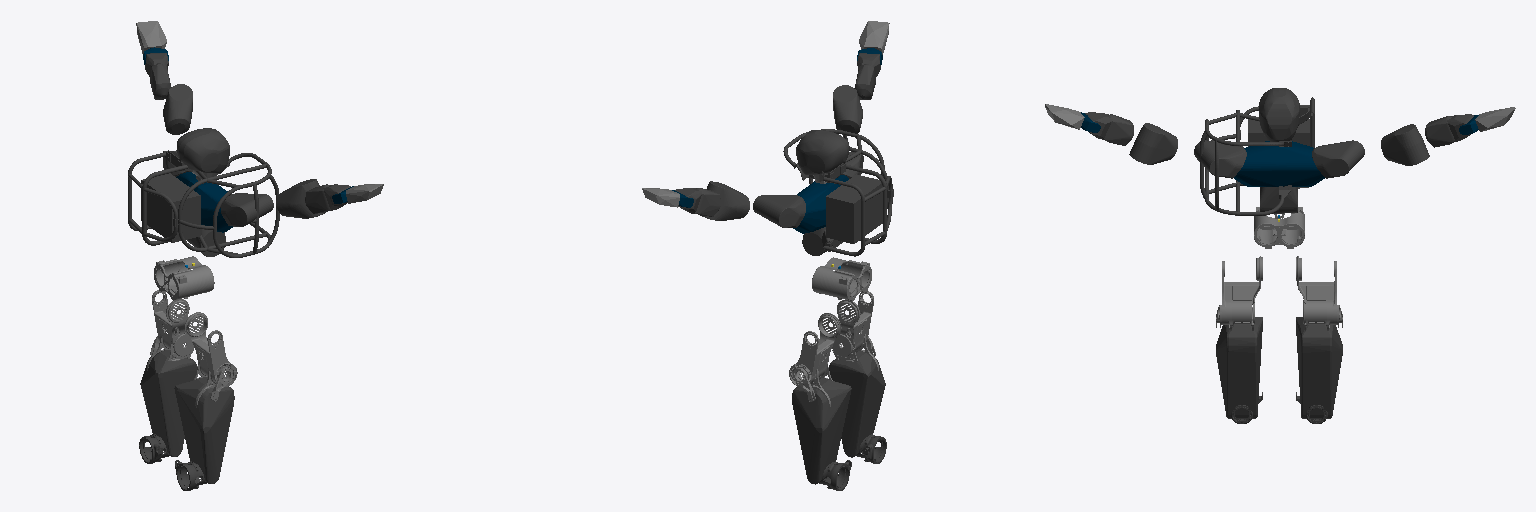
--- Facts derived from the render (not from the file) ---
Views: 3 orthographic renders of the robot side by side, from view 1: azimuth 30°, elevation 25°; view 2: azimuth 150°, elevation 25°; view 3: azimuth 270°, elevation 25°.
Robot: bigman — 85 links, 84 joints (31 revolute, 53 fixed); root link base_link; default pose: all joints at 0 but 2 set to mid-range because 0 is outside their limits (RShLat = -1.99, LShLat = 1.97).
Links seen in each view (by area): view 1: TorsoProtections, RLowLeg, LLowLeg, backpack, RThighLowLeg, LThighLowLeg, Waist, multisense/head, RShp, LShy, DWYTorso, RShy (+5 smaller); view 2: LLowLeg, RLowLeg, backpack, TorsoProtections, LThighLowLeg, RThighLowLeg, Waist, multisense/head, LShp, DWYTorso, RShy, LShy (+5 smaller); view 3: LLowLeg, RLowLeg, DWYTorso, TorsoProtections, multisense/head, LThighLowLeg, RThighLowLeg, Waist, LShy, LShp, RShy, RShp (+6 smaller).
Link boxes in pixels (x1,y1,x2,y2): TorsoProtections: [128, 150, 279, 257]; RLowLeg: [174, 377, 234, 483]; LLowLeg: [140, 350, 196, 456]; backpack: [141, 173, 200, 242]; RThighLowLeg: [185, 312, 237, 407]; LThighLowLeg: [147, 290, 193, 370]; Waist: [154, 256, 214, 300]; multisense/head: [177, 128, 229, 173]; RShp: [220, 193, 273, 226]; LShy: [163, 84, 192, 134]; DWYTorso: [176, 172, 232, 232]; RShy: [276, 179, 324, 218]; LLowLeg: [792, 378, 851, 484]; RLowLeg: [829, 351, 885, 457]; backpack: [826, 174, 882, 243]; TorsoProtections: [783, 129, 893, 256]; LThighLowLeg: [789, 313, 841, 408]; RThighLowLeg: [832, 291, 878, 370]; Waist: [812, 257, 871, 301]; multisense/head: [796, 130, 849, 174]; LShp: [753, 195, 805, 227]; DWYTorso: [793, 175, 848, 233]; RShy: [833, 85, 862, 133]; LShy: [702, 181, 749, 220]; LLowLeg: [1296, 317, 1342, 418]; RLowLeg: [1216, 317, 1262, 418]; DWYTorso: [1234, 141, 1324, 186]; TorsoProtections: [1200, 97, 1314, 215]; multisense/head: [1259, 88, 1299, 142]; LThighLowLeg: [1296, 256, 1342, 330]; RThighLowLeg: [1216, 256, 1262, 330]; Waist: [1254, 207, 1304, 248]; LShy: [1381, 124, 1429, 165]; LShp: [1312, 140, 1364, 178]; RShy: [1129, 123, 1177, 164]; RShp: [1194, 140, 1246, 178].
Size in the robot's own frame: 0.7354 by 2.28 by 1.88 metres.
25 mesh visuals loaded from 23 distinct referenced files (16 binary STL); not drawn: 3 (reference not matched to a file when rendering), 9 (file found but could not be loaded).

URDF robot description (bigman):
<?xml version="1.0" ?>
<!-- =================================================================================== -->
<!-- |    This document was autogenerated by xacro from bigman_robot.urdf.xacro        | -->
<!-- |    EDITING THIS FILE BY HAND IS NOT RECOMMENDED                                 | -->
<!-- =================================================================================== -->
<!--robot xmlns:xacro="http://ros.org/wiki/xacro" name="bigman"-->
<robot name="bigman" xmlns:xacro="http://ros.org/wiki/xacro">
  <!--
  ROS urdf definition of the BIGMAN humanoid robot by Istituto Italiano di Tecnologia
  
  Author: Enrico Mingo
  
  This file groups files to use BIGMAN in GAZEBO
  
  -->
  <!-- Uncomment this to have the robot rigidly connected to the world -->
  <!--  <link name="world"/>
  
   <joint name="fixed" type="fixed">
    <parent link="world"/>
    <child link="base_link"/>
  </joint>
  
  <origin xyz="0.0 0.0 1.5" rpy="0 0 0" /> -->
  <!-- ROBOT -->
  <!-- 
  ROS urdf definition of the BIGMAN humanoid robot by Istituto Italiano di Tecnologia
  
  DO NOT INCLUDE THIS FILE DIRECTLY! USE bigman_robot.urdf.xacro INSTEAD!

  Author: Enrico Mingo & Alessio Rocchi

  Inertial matrix has to be in CoM frame (URDF specs)

  Velocity and effort limits are fake!
-->
  <material name="grey">
    <color rgba="0.5 0.5 0.5 1"/>
  </material>
  <material name="dark_grey">
    <color rgba="0.3 0.3 0.3 1"/>
  </material>
  <material name="blue">
    <color rgba="0.0 0.2 0.3 1"/>
  </material>
  <!-- 
  ROS urdf definition of the BIGMAN humanoid robot by Istituto Italiano di Tecnologia
  
  DO NOT INCLUDE THIS FILE DIRECTLY! USE bigman_robot.urdf.xacro INSTEAD!

  Author: Enrico Mingo & Alessio Rocchi

  Inertial matrix has to be in CoM frame (URDF specs)

  Velocity and effort limits are fake!
-->
  <!--
The coordinate frame called base_link is rigidly attached to the robot root body. It is recommended to choose the robot waist as its root body. The base_link can be attached to the root in any arbitrary position or orientation; for every hardware platform there will be a different place on the base that provides an obvious point of reference. Note that REP 103 [1] specifies a preferred orientation for frames. -->
  <link name="base_link"/>
  <link name="Waist">
    <inertial>
      <origin rpy="0.0 0.0 0.0" xyz="-0.022813402 -0.00073935443 0.030422909"/>
      <mass value="1.1046081e+01"/>
      <inertia ixx="0.096207978" ixy="0.00014081043" ixz="0.0031258127" iyy="0.098511158" iyz="0.00013938149" izz="0.086541531"/>
    </inertial>
    <visual>
      <origin rpy="0 0 0" xyz="0 0 0"/>
      <geometry name="Waist_visual">
        <mesh filename="package://bigman_urdf/meshes/Waist.STL" scale="0.001 0.001 0.001"/>
      </geometry>
      <material name="grey"/>
    </visual>
    <collision>
      <origin rpy="0 0 0" xyz="0 0 0"/>
      <geometry name="Waist_collision">
        <mesh filename="package://bigman_urdf/meshes/simple/Waist.STL" scale="0.001 0.001 0.001"/>
      </geometry>
    </collision>
  </link>
  <joint name="base_joint" type="fixed">
    <parent link="base_link"/>
    <child link="Waist"/>
    <origin rpy="0 0 0" xyz="0 0 0"/>
  </joint>
  <!-- Scale factor for meshes -->
  <!-- LINKS -->
  <!-- This links are defined in order to be compliant with http://www.ros.org/reps/rep-0120.html#coordinate-frames
and to define the end effectors of the robot-->
  <!-- The coordinate frame called torso is attached to the lowest body of the model which is a parent of l_gripper, r_gripper and gaze. -->
  <link name="torso"/>
  <link name="DWL">
    <inertial>
      <origin rpy="0 0 0" xyz="-0.04610869 0.02232230 -0.02249514"/>
      <mass value="1.44965471"/>
      <inertia ixx="0.01096760" ixy="0.00111556" ixz="0.00030030" iyy="0.00409572" iyz="0.00054456" izz="0.01143795"/>
    </inertial>
    <visual>
      <origin rpy="0 0 0" xyz="0.0 0.0 0.0"/>
      <geometry name="DWL_visual">
        <mesh filename="package://bigman_urdf/meshes/TorsoRoll.STL" scale="0.001 0.001 0.001"/>
      </geometry>
      <material name="dark_grey"/>
    </visual>
    <collision>
      <origin rpy="0 0 0" xyz="0.0 0.0 0.0"/>
      <geometry name="DWL_collision">
        <mesh filename="package://bigman_urdf/meshes/simple/TorsoRoll.STL" scale="0.001 0.001 0.001"/>
      </geometry>
    </collision>
  </link>
  <link name="DWS">
    <inertial>
      <origin rpy="0 0 0" xyz="0.00010203 0.00928164 0.08113610"/>
      <mass value="5.28825567"/>
      <inertia ixx="0.01628069" ixy="-0.00000323" ixz="0.00001424" iyy="0.01424286" iyz="0.00075458" izz="0.00994169"/>
    </inertial>
    <visual>
      <origin rpy="0 0 0" xyz="0.0 0.0 0.0"/>
      <geometry name="DWS_visual">
        <mesh filename="package://bigman_urdf/meshes/TorsoYawPitch.STL" scale="0.001 0.001 0.001"/>
      </geometry>
      <material name="dark_grey"/>
    </visual>
    <collision>
      <origin rpy="0 0 0" xyz="0.0 0.0 0.0"/>
      <geometry name="DWS_collision">
        <mesh filename="package://bigman_urdf/meshes/simple/TorsoYawPitch.STL" scale="0.001 0.001 0.001"/>
      </geometry>
    </collision>
  </link>
  <link name="DWYTorso">
    <inertial>
      <origin rpy="0 0 0" xyz="0.0 0.00 0.3"/>
      <mass value="26"/>
      <inertia ixx="0.18629757" ixy="0.00008160" ixz="0.00030250" iyy="0.02013829" iyz="-0.00001790" izz="0.18850541"/>
    </inertial>
    <visual>
      <origin rpy="0 0 0" xyz="0.0 0.0 0.0"/>
      <geometry name="DWYTorso_visual">
        <mesh filename="package://bigman_urdf/meshes/NewChest.STL" scale="0.001 0.001 0.001"/>
      </geometry>
      <material name="blue"/>
    </visual>
    <collision>
      <origin rpy="0 0 0" xyz="0.0 0.0 0.0"/>
      <geometry name="DWYTorso_collision">
        <mesh filename="package://bigman_urdf/meshes/simple/NewChest.STL" scale="0.001 0.001 0.001"/>
      </geometry>
    </collision>
  </link>
  <link name="TorsoProtections">
    <inertial>
      <origin rpy="0 0 0" xyz="-0.082963193 7.0747291e-07 0.075409106"/>
      <mass value="4.7"/>
      <inertia ixx="0.14773769" ixy="0.0" ixz="-0.029780072" iyy="0.16085511" iyz="0.0" izz="0.15409381"/>
    </inertial>
    <visual>
      <origin rpy="0 0 0" xyz="0.0 0.0 0.0"/>
      <geometry name="TorsoProtections_visual">
        <mesh filename="package://bigman_urdf/meshes/ProtectionSystem.STL" scale="0.001 0.001 0.001"/>
      </geometry>
      <material name="dark_grey"/>
    </visual>
    <collision>
      <origin rpy="0 0 0" xyz="0.0 0.0 0.0"/>
      <geometry name="TorsoProtections_collision">
        <mesh filename="package://bigman_urdf/meshes/simple/ProtectionSystem.STL" scale="0.001 0.001 0.001"/>
      </geometry>
    </collision>
  </link>
  <link name="backpack">
    <inertial>
      <origin rpy="0 0 0" xyz="0 0 -0.065"/>
      <mass value="10.0"/>
      <inertia ixx="0.0890833333333" ixy="0.0" ixz="0.0" iyy="0.0354166666667" iyz="0.0" izz="0.0963333333333"/>
    </inertial>
    <visual>
      <origin rpy="0 0 0" xyz="0.0 0.0 0.0"/>
      <geometry name="backpack_visual">
        <box size="0.16 0.3 0.22"/>
      </geometry>
      <material name="dark_grey"/>
    </visual>
    <collision>
      <origin rpy="0 0 0" xyz="0.0 0.0 0.0"/>
      <geometry name="backpack_collision">
        <box size="0.16 0.3 0.22"/>
      </geometry>
    </collision>
  </link>
  <joint name="backpack_joint" type="fixed">
    <parent link="DWYTorso"/>
    <child link="backpack"/>
    <origin rpy="0 0 0" xyz="-0.185 0 -0.025"/>
  </joint>
  <joint name="torso_protection_joint" type="fixed">
    <parent link="DWYTorso"/>
    <child link="TorsoProtections"/>
    <origin rpy="0 0 0" xyz="0.0 0 0.0"/>
  </joint>
  <joint name="torso_joint" type="fixed">
    <parent link="DWYTorso"/>
    <child link="torso"/>
    <origin rpy="0 0 0" xyz="0.0 0 0.0"/>
  </joint>
  <joint name="WaistLat" type="revolute">
    <parent link="Waist"/>
    <child link="DWL"/>
    <origin rpy="0 0 0" xyz="0.1115 0 0.195982"/>
    <axis xyz="0.89879991307 0 0.43835911792"/>
    <limit effort="120" lower="-0.610865238198" upper="0.610865238198" velocity="6.283"/>
    <dynamics damping="3.0" friction="0"/>
  </joint>
  <joint name="WaistSag" type="revolute">
    <parent link="DWL"/>
    <child link="DWS"/>
    <origin rpy="0 0 0" xyz="0 0 0"/>
    <axis xyz="0 1 0"/>
    <limit effort="220" lower="-0.349065850399" upper="1.3962634016" velocity="6.283"/>
    <dynamics damping="3.0" friction="0"/>
  </joint>
  <joint name="WaistYaw" type="revolute">
    <parent link="DWS"/>
    <child link="DWYTorso"/>
    <origin rpy="0 0 0" xyz="0 0 0.22275"/>
    <axis xyz="0 0 1"/>
    <limit effort="120" lower="-2.84488668075" upper="2.84488668075" velocity="6.283"/>
    <dynamics damping="3.0" friction="0"/>
  </joint>
  <!-- LINKS -->
  <link name="NeckYaw">
    <inertial>
      <origin rpy="0 0 0" xyz="0.0 0.0 0.1155"/>
      <mass value="0.35"/>
      <inertia ixx="0.00032840119" ixy="0.0" ixz="0.0" iyy="7.0371675e-05" iyz="0.0" izz="0.00032840111"/>
    </inertial>
    <visual>
      <origin rpy="0 0 0" xyz="0.0 0.0 0.0"/>
      <geometry name="NeckYaw_visual">
        <mesh filename="package://bigman_urdf/meshes/NeckYaw.STL" scale="0.001 0.001 0.001"/>
      </geometry>
      <material name="grey"/>
    </visual>
    <collision>
      <origin rpy="0 0 0" xyz="0.0 0.0 0.0"/>
      <geometry name="NeckYaw_collision">
        <mesh filename="package://bigman_urdf/meshes/simple/NeckYaw.STL" scale="0.001 0.001 0.001"/>
      </geometry>
    </collision>
  </link>
  <link name="NeckPitch">
    <inertial>
      <origin rpy="0 0 0" xyz="-0.102 0.0 0.26575"/>
      <mass value="0.623"/>
      <inertia ixx="0.0010388333" ixy="0.0" ixz="0.0" iyy="0.00054689381" iyz="0.0" izz="0.00054689381"/>
    </inertial>
    <visual>
      <origin rpy="0 0 0" xyz="0.0 0.0 0.0"/>
      <geometry name="NeckPitch_visual">
        <mesh filename="package://bigman_urdf/meshes/NeckPitch.STL" scale="0.001 0.001 0.001"/>
      </geometry>
      <material name="grey"/>
    </visual>
    <collision>
      <origin rpy="0 0 0" xyz="0.0 0.0 0.0"/>
      <geometry name="NeckPitch_collision">
        <mesh filename="package://bigman_urdf/meshes/simple/NeckPitch.STL" scale="0.001 0.001 0.001"/>
      </geometry>
    </collision>
  </link>
  <!-- JOINTS -->
  <joint name="NeckYawj" type="revolute">
    <parent link="DWYTorso"/>
    <child link="NeckYaw"/>
    <origin rpy="0 0 0" xyz="0 0 0"/>
    <axis xyz="0 0 1"/>
    <!--     <limit velocity="6.283" effort="120" lower="${(-175.0)*toRad}" upper="${(175.0)*toRad}" /> -->
    <limit effort="120" lower="-0.610865238198" upper="0.610865238198" velocity="6.283"/>
    <dynamics damping="3.0" friction="0"/>
  </joint>
  <joint name="NeckPitchj" type="revolute">
    <parent link="NeckYaw"/>
    <child link="NeckPitch"/>
    <origin rpy="0 0 0" xyz="0 0 0.117"/>
    <axis xyz="0 1 0"/>
    <!--limit velocity="6.283" effort="120" lower="${(-30.0)*toRad}" upper="${(70.0)*toRad}" /-->
    <limit effort="120" lower="-0.261799387799" upper="1.0471975512" velocity="6.283"/>
    <dynamics damping="3.0" friction="0"/>
  </joint>
  <!-- ********************LEGS******************** -->
  <!-- This links are defined in order to be compliant with http://www.ros.org/reps/rep-0120.html#coordinate-frames
	and to define the end effectors of the robot -->
  <!--  position and orientation of the leg regardless of the support body geometry -->
  <link name="l_ankle"/>
  <link name="r_ankle"/>
  <!-- position and orientation of the left leg support body. The (X,Y) plane of this frame must be coplanar with the support body contact surface. It is recommended to choose the origin as the projection of the support body origin on the contact surface. The Z coordinate of this frame should be on the ground level when standing. -->
  <link name="l_sole"/>
  <link name="r_sole"/>
  <!--  position and orientation of the leg toe body. The (X,Y) plan of this frame must be coplanar with the toe body contact surface. It is recommended to choose the origin as the projection of the body center on the contact surface. -->
  <link name="l_toe"/>
  <link name="r_toe"/>
  <!-- LINKS -->
  <!-- ********************RIGHT LEG******************** -->
  <link name="RHipMot">
    <inertial>
      <origin rpy="0 0 0" xyz="-0.10348188 -0.10919813 -0.064924056"/>
      <mass value="3.7958197"/>
      <inertia ixx="0.015639017" ixy="0.0018504661" ixz="0.0023907793" iyy="0.023519749" iyz="-0.0023303162" izz="0.020953643"/>
    </inertial>
    <visual>
      <origin rpy="0 0 0" xyz="0 0 0"/>
      <geometry name="RHipMot_visual">
        <mesh filename="package://bigman_urdf/meshes/HipRoll.STL" scale="0.001 0.001 0.001"/>
      </geometry>
      <material name="dark_grey"/>
    </visual>
    <collision>
      <origin rpy="0 0 0" xyz="0 0 0"/>
      <geometry name="RHipMot_collision">
        <mesh filename="package://bigman_urdf/meshes/simple/HipRoll.STL" scale="0.001 0.001 0.001"/>
      </geometry>
    </collision>
  </link>
  <link name="RThighUpLeg">
    <inertial>
      <origin rpy="0 0 0" xyz="-0.0052929709 -0.022561833 0.0056701669"/>
      <mass value="3.2402068"/>
      <inertia ixx="0.010102097" ixy="0.00010858487" ixz="0.00025291395" iyy="0.0067147" iyz="8.3447072e-05" izz="0.01048513"/>
    </inertial>
    <visual>
      <origin rpy="0 0 0" xyz="0 0 0"/>
      <geometry name="RThighUpLeg_visual">
        <mesh filename="package://bigman_urdf/meshes/HipYaw.STL" scale="0.001 0.001 0.001"/>
      </geometry>
      <material name="dark_grey"/>
    </visual>
    <collision>
      <origin rpy="0 0 0" xyz="0 0 0"/>
      <geometry name="RThighUpLeg_collision">
        <mesh filename="package://bigman_urdf/meshes/simple/HipYaw.STL" scale="0.001 0.001 0.001"/>
      </geometry>
    </collision>
  </link>
  <link name="RThighLowLeg">
    <inertial>
      <origin rpy="0 0 0" xyz="0.037746286 -0.028539939 -0.19310133"/>
      <mass value="5.0950736"/>
      <inertia ixx="0.051607858" ixy="0.0022253472" ixz="0.002452979" iyy="0.044349153" iyz="-0.0041006942" izz="0.023374453"/>
    </inertial>
    <visual>
      <origin rpy="0 0 0" xyz="0 0 0"/>
      <geometry name="RThighLowLeg_visual">
        <mesh filename="package://bigman_urdf/meshes/HipPitch.STL" scale="0.001 0.001 0.001"/>
      </geometry>
      <material name="grey"/>
    </visual>
    <collision>
      <origin rpy="0 0 0" xyz="0 0 0"/>
      <geometry name="RThighLowLeg_collision">
        <mesh filename="package://bigman_urdf/meshes/simple/HipPitch.STL" scale="0.001 0.001 0.001"/>
      </geometry>
    </collision>
  </link>
  <link name="RLowLeg">
    <inertial>
      <origin rpy="0 0 0" xyz="-0.0050828668 0.0037732093 -0.072605017"/>
      <mass value="5.6495309"/>
      <inertia ixx="0.10535542" ixy="-0.00058199221" ixz="0.0016743598" iyy="0.097857796" iyz="-0.0033770181" izz="0.020854086"/>
    </inertial>
    <visual>
      <origin rpy="0 0 0" xyz="0 0 0"/>
      <geometry name="RLowLeg_visual">
        <mesh filename="package://bigman_urdf/meshes/KneePitchCalf.STL" scale="0.001 0.001 0.001"/>
      </geometry>
      <material name="dark_grey"/>
    </visual>
    <collision>
      <origin rpy="0 0 0" xyz="0 0 0"/>
      <geometry name="RLowLeg_collision">
        <mesh filename="package://bigman_urdf/meshes/simple/KneePitchCalf.STL" scale="0.001 0.001 0.001"/>
      </geometry>
    </collision>
  </link>
  <link name="RFootmot">
    <inertial>
      <origin rpy="0 0 0" xyz="-0.022024173 0.0025677238 0.00094588455"/>
      <mass value="3.2844159"/>
      <inertia ixx="0.0075550679" ixy="0.00067488292" ixz="5.8332889e-05" iyy="0.011241163" iyz="-0.00014552081" izz="0.013391865"/>
    </inertial>
    <visual>
      <origin rpy="0 0 0" xyz="0 0 0"/>
      <geometry name="RFootmot_visual">
        <mesh filename="package://bigman_urdf/meshes/AnklePitch.STL" scale="0.001 0.001 0.001"/>
      </geometry>
      <material name="dark_grey"/>
    </visual>
    <collision>
      <origin rpy="0 0 0" xyz="0 0 0"/>
      <geometry name="RFootmot_collision">
        <mesh filename="package://bigman_urdf/meshes/simple/AnklePitch.STL" scale="0.001 0.001 0.001"/>
      </geometry>
    </collision>
  </link>
  <link name="RFoot">
    <inertial>
      <origin rpy="0 0 0" xyz="-0.00653584 -0.00479384 -0.10180375"/>
      <mass value="3.42638110"/>
      <inertia ixx="0.01032886" ixy="-0.00016407" ixz="-0.00201294" iyy="0.02854025" iyz="0.00046315" izz="0.02799499"/>
    </inertial>
    <visual>
      <origin rpy="0 0 0" xyz="0 0 0"/>
      <geometry name="RFoot_visual">
        <mesh filename="package://bigman_urdf/meshes/NewFoot.STL" scale="0.001 0.001 0.001"/>
      </geometry>
      <material name="dark_grey"/>
    </visual>
    <collision>
      <origin rpy="0 0 0" xyz="0.005 -0.01 -0.1359"/>
      <geometry>
        <box size="0.32 0.16 0.015"/>
      </geometry>
    </collision>
  </link>
  <!-- ********************LEFT LEG******************** -->
  <link name="LHipMot">
    <inertial>
      <origin rpy="0 0 0" xyz="-0.10348188 0.10919813 -0.064924056"/>
      <mass value="3.7958197"/>
      <inertia ixx="0.015639017" ixy="-0.0018504661" ixz="0.0023907793" iyy="0.023519749" iyz="0.0023303162" izz="0.020953643"/>
    </inertial>
    <visual>
      <origin rpy="0 0 0" xyz="0 0 0"/>
      <geometry name="LHipMot_visual">
        <mesh filename="package://bigman_urdf/meshes/HipRoll.STL" scale="0.001 -0.001 0.001"/>
      </geometry>
      <material name="dark_grey"/>
    </visual>
    <collision>
      <origin rpy="0 0 0" xyz="0 0 0"/>
      <geometry name="LHipMot_collision">
        <mesh filename="package://bigman_urdf/meshes/simple/HipRoll.STL" scale="0.001 -0.001 0.001"/>
      </geometry>
    </collision>
  </link>
  <link name="LThighUpLeg">
    <inertial>
      <origin rpy="0 0 0" xyz="-0.0052929709 0.022561833 0.0056701669"/>
      <mass value="3.2402068"/>
      <inertia ixx="0.010102097" ixy="-0.00010858487" ixz="0.00025291395" iyy="0.0067147" iyz="-8.3447072e-05" izz="0.01048513"/>
    </inertial>
    <visual>
      <origin rpy="0 0 0" xyz="0 0 0"/>
      <geometry name="LThighUpLeg_visual">
        <mesh filename="package://bigman_urdf/meshes/HipYaw.STL" scale="0.001 -0.001 0.001"/>
      </geometry>
      <material name="dark_grey"/>
    </visual>
    <collision>
      <origin rpy="0 0 0" xyz="0 0 0"/>
      <geometry name="LThighUpLeg_collision">
        <mesh filename="package://bigman_urdf/meshes/simple/HipYaw.STL" scale="0.001 -0.001 0.001"/>
      </geometry>
    </collision>
  </link>
  <link name="LThighLowLeg">
    <inertial>
      <origin rpy="0 0 0" xyz="0.037746286 0.028539939 -0.19310133"/>
      <mass value="5.0950736"/>
      <inertia ixx="0.051607858" ixy="-0.0022253472" ixz="0.002452979" iyy="0.044349153" iyz="0.0041006942" izz="0.023374453"/>
    </inertial>
    <visual>
      <origin rpy="0 0 0" xyz="0 0 0"/>
      <geometry name="LThighLowLeg_visual">
        <mesh filename="package://bigman_urdf/meshes/HipPitch.STL" scale="0.001 -0.001 0.001"/>
      </geometry>
      <material name="grey"/>
    </visual>
    <collision>
      <origin rpy="0 0 0" xyz="0 0 0"/>
      <geometry name="LThighLowLeg_collision">
        <mesh filename="package://bigman_urdf/meshes/simple/HipPitch.STL" scale="0.001 -0.001 0.001"/>
      </geometry>
    </collision>
  </link>
  <link name="LLowLeg">
    <inertial>
      <origin rpy="0 0 0" xyz="-0.0050828668 -0.0037732093 -0.072605017"/>
      <mass value="5.6495309"/>
      <inertia ixx="0.10535542" ixy="0.00058199221" ixz="0.0016743598" iyy="0.097857796" iyz="0.0033770181" izz="0.020854086"/>
    </inertial>
    <visual>
      <origin rpy="0 0 0" xyz="0 0 0"/>
      <geometry name="LLowLeg_visual">
        <mesh filename="package://bigman_urdf/meshes/KneePitchCalf.STL" scale="0.001 -0.001 0.001"/>
      </geometry>
      <material name="dark_grey"/>
    </visual>
    <collision>
      <origin rpy="0 0 0" xyz="0 0 0"/>
      <geometry name="LLowLeg_collision">
        <mesh filename="package://bigman_urdf/meshes/simple/KneePitchCalf.STL" scale="0.001 -0.001 0.001"/>
      </geometry>
    </collision>
  </link>
  <link name="LFootmot">
    <inertial>
      <origin rpy="0 0 0" xyz="-0.022024173 -0.0025677238 0.00094588455"/>
      <mass value="3.2844159"/>
      <inertia ixx="0.0075550679" ixy="-0.00067488292" ixz="5.8332889e-05" iyy="0.011241163" iyz="0.00014552081" izz="0.013391865"/>
    </inertial>
    <visual>
      <origin rpy="0 0 0" xyz="0 0 0"/>
      <geometry name="LFootmot_visual">
        <mesh filename="package://bigman_urdf/meshes/AnklePitch.STL" scale="0.001 -0.001 0.001"/>
      </geometry>
      <material name="dark_grey"/>
    </visual>
    <collision>
      <origin rpy="0 0 0" xyz="0 0 0"/>
      <geometry name="LFootmot_collision">
        <mesh filename="package://bigman_urdf/meshes/simple/AnklePitch.STL" scale="0.001 -0.001 0.001"/>
      </geometry>
    </collision>
  </link>
  <link name="LFoot">
    <inertial>
      <origin rpy="0 0 0" xyz="-0.00653584 0.00479384 -0.10180375"/>
      <mass value="3.42638110"/>
      <inertia ixx="0.01032886" ixy="0.00016407" ixz="-0.00201294" iyy="0.02854025" iyz="-0.00046315" izz="0.02799499"/>
    </inertial>
    <visual>
      <origin rpy="0 0 0" xyz="0 0 0"/>
      <geometry name="LFoot_visual">
        <mesh filename="package://bigman_urdf/meshes/NewFoot.STL" scale="0.001 -0.001 0.001"/>
      </geometry>
      <material name="dark_grey"/>
    </visual>
    <collision>
      <origin rpy="0 0 0" xyz="0.005 0.01 -0.1359"/>
      <geometry>
        <box size="0.32 0.16 0.015"/>
      </geometry>
    </collision>
  </link>
  <!-- JOINTS -->
  <!-- ********************RIGHT LEG******************** -->
  <joint name="RHipLat" type="revolute">
    <parent link="Waist"/>
    <child link="RHipMot"/>
    <origin rpy="0 0 0" xyz="0.1059 -0.06 0.0"/>
    <axis xyz="1 0 0"/>
    <limit effort="400" lower="-0.87222" upper="0.697778" velocity="6.283"/>
    <dynamics damping="3.0" friction="0"/>
  </joint>
  <joint name="RHipYaw" type="revolute">
    <parent link="RHipMot"/>
    <child link="RThighUpLeg"/>
    <origin rpy="0 0 0" xyz="-0.0889 -0.121032 -0.217872"/>
    <axis xyz="0 0 1"/>
    <limit effort="140" lower="-1.57" upper="0.872222" velocity="6.283"/>
    <dynamics damping="3.0" friction="0"/>
  </joint>
  <joint name="RHipSag" type="revolute">
    <parent link="RThighUpLeg"/>
    <child link="RThighLowLeg"/>
    <origin rpy="0 0 0" xyz="0.0 0.0 0.0"/>
    <axis xyz="0 1 0"/>
    <limit effort="400" lower="-2.09333" upper="1.046667" velocity="6.283"/>
    <dynamics damping="3.0" friction="0"/>
  </joint>
  <joint name="RKneeSag" type="revolute">
    <parent link="RThighLowLeg"/>
    <child link="RLowLeg"/>
    <origin rpy="0 0 0" xyz="0.0 0.0 -0.356"/>
    <axis xyz="0 1 0"/>
    <limit effort="400" lower="0.0" upper="2.442222" velocity="6.283"/>
    <dynamics damping="3.0" friction="0"/>
  </joint>
  <joint name="RAnkSag" type="revolute">
    <parent link="RLowLeg"/>
    <child link="RFootmot"/>
    <origin rpy="0 0 0" xyz="0.0 0.0 -0.4"/>
    <axis xyz="0 1 0"/>
    <limit effort="330" lower="-1.39556" upper="0.697778" velocity="6.283"/>
    <dynamics damping="3.0" friction="0"/>
  </joint>
  <joint name="RAnkLat" type="revolute">
    <parent link="RFootmot"/>
    <child link="RFoot"/>
    <origin rpy="0 0 0" xyz="0.0 0.0 0.0"/>
    <axis xyz="1 0 0"/>
    <limit effort="210" lower="-0.785" upper="0.785" velocity="6.283"/>
    <dynamics damping="3.0" friction="0"/>
  </joint>
  <!-- ********************LEFT LEG******************** -->
  <joint name="LHipLat" type="revolute">
    <parent link="Waist"/>
    <child link="LHipMot"/>
    <origin rpy="0 0 0" xyz="0.1059 0.06 0.0"/>
    <axis xyz="1 0 0"/>
    <limit effort="400" lower="-0.697778" upper="0.87222" velocity="6.283"/>
    <dynamics damping="3.0" friction="0"/>
  </joint>
  <joint name="LHipYaw" type="revolute">
    <parent link="LHipMot"/>
    <child link="LThighUpLeg"/>
    <origin rpy="0 0 0" xyz="-0.0889 0.121032 -0.217872"/>
    <axis xyz="0 0 1"/>
    <limit effort="140" lower="-0.872222" upper="1.57" velocity="6.283"/>
    <dynamics damping="3.0" friction="0"/>
  </joint>
  <joint name="LHipSag" type="revolute">
    <parent link="LThighUpLeg"/>
    <child link="LThighLowLeg"/>
    <origin rpy="0 0 0" xyz="0.0 0.0 0.0"/>
    <axis xyz="0 1 0"/>
    <limit effort="400" lower="-2.09333" upper="1.046667" velocity="6.283"/>
    <dynamics damping="3.0" friction="0"/>
  </joint>
  <joint name="LKneeSag" type="revolute">
    <parent link="LThighLowLeg"/>
    <child link="LLowLeg"/>
    <origin rpy="0 0 0" xyz="0.0 0.0 -0.356"/>
    <axis xyz="0 1 0"/>
    <limit effort="400" lower="0.0" upper="2.442222" velocity="6.283"/>
    <dynamics damping="3.0" friction="0"/>
  </joint>
  <joint name="LAnkSag" type="revolute">
    <parent link="LLowLeg"/>
    <child link="LFootmot"/>
    <origin rpy="0 0 0" xyz="0.0 0.0 -0.4"/>
    <axis xyz="0 1 0"/>
    <limit effort="330" lower="-1.39556" upper="0.697778" velocity="6.283"/>
    <dynamics damping="3.0" friction="0"/>
  </joint>
  <joint name="LAnkLat" type="revolute">
    <parent link="LFootmot"/>
    <child link="LFoot"/>
    <origin rpy="0 0 0" xyz="0.0 0.0 0.0"/>
    <axis xyz="1 0 0"/>
    <limit effort="210" lower="-0.785" upper="0.785" velocity="6.283"/>
    <dynamics damping="3.0" friction="0"/>
  </joint>
  <joint name="l_ankle_joint" type="fixed">
    <parent link="LFoot"/>
    <child link="l_ankle"/>
    <origin rpy="0 0 0" xyz="0 0 0"/>
  </joint>
  <joint name="r_ankle_joint" type="fixed">
    <parent link="RFoot"/>
    <child link="r_ankle"/>
    <origin rpy="0 0 0" xyz="0 0 0"/>
  </joint>
  <joint name="l_sole_joint" type="fixed">
    <parent link="LFoot"/>
    <child link="l_sole"/>
    <origin rpy="0 0 0" xyz="0 0 -0.1435"/>
  </joint>
  <joint name="r_sole_joint" type="fixed">
    <parent link="RFoot"/>
    <child link="r_sole"/>
    <origin rpy="0 0 0" xyz="0 0 -0.1435"/>
  </joint>
  <joint name="l_toe_joint" type="fixed">
    <parent link="l_sole"/>
    <child link="l_toe"/>
    <origin rpy="0 0 0" xyz="0.16 0 0"/>
  </joint>
  <joint name="r_toe_joint" type="fixed">
    <parent link="r_sole"/>
    <child link="r_toe"/>
    <origin rpy="0 0 0" xyz="0.16 0 0"/>
  </joint>
  <!-- macro for one reference frame in foot -->
  <link name="l_foot_upper_right_link"/>
  <joint name="l_foot_upper_right_joint" type="fixed">
    <origin rpy="0 0 0" xyz="0.16 -0.07 0"/>
    <parent link="l_sole"/>
    <child link="l_foot_upper_right_link"/>
  </joint>
  <!-- macro for one reference frame in foot -->
  <link name="l_foot_upper_left_link"/>
  <joint name="l_foot_upper_left_joint" type="fixed">
    <origin rpy="0 0 0" xyz="0.16 0.09 0"/>
    <parent link="l_sole"/>
    <child link="l_foot_upper_left_link"/>
  </joint>
  <!-- macro for one reference frame in foot -->
  <link name="l_foot_lower_right_link"/>
  <joint name="l_foot_lower_right_joint" type="fixed">
    <origin rpy="0 0 0" xyz="-0.16 -0.07 0"/>
    <parent link="l_sole"/>
    <child link="l_foot_lower_right_link"/>
  </joint>
  <!-- macro for one reference frame in foot -->
  <link name="l_foot_lower_left_link"/>
  <joint name="l_foot_lower_left_joint" type="fixed">
    <origin rpy="0 0 0" xyz="-0.16 0.09 0"/>
    <parent link="l_sole"/>
    <child link="l_foot_lower_left_link"/>
  </joint>
  <!-- macro for one reference frame in foot -->
  <link name="r_foot_upper_right_link"/>
  <joint name="r_foot_upper_right_joint" type="fixed">
    <origin rpy="0 0 0" xyz="0.16 0.07 0"/>
    <parent link="r_sole"/>
    <child link="r_foot_upper_right_link"/>
  </joint>
  <!-- macro for one reference frame in foot -->
  <link name="r_foot_upper_left_link"/>
  <joint name="r_foot_upper_left_joint" type="fixed">
    <origin rpy="0 0 0" xyz="0.16 -0.09 0"/>
    <parent link="r_sole"/>
    <child link="r_foot_upper_left_link"/>
  </joint>
  <!-- macro for one reference frame in foot -->
  <link name="r_foot_lower_right_link"/>
  <joint name="r_foot_lower_right_joint" type="fixed">
    <origin rpy="0 0 0" xyz="-0.16 0.07 0"/>
    <parent link="r_sole"/>
    <child link="r_foot_lower_right_link"/>
  </joint>
  <!-- macro for one reference frame in foot -->
  <link name="r_foot_lower_left_link"/>
  <joint name="r_foot_lower_left_joint" type="fixed">
    <origin rpy="0 0 0" xyz="-0.16 -0.09 0"/>
    <parent link="r_sole"/>
    <child link="r_foot_lower_left_link"/>
  </joint>
  <!-- LINKS -->
  <!-- RIGHT ARM -->
  <link name="RShp">
    <inertial>
      <origin rpy="0 0 0" xyz="-0.00543349 -0.04480023 0.01581062"/>
      <mass value="1.81745527"/>
      <inertia ixx="0.00571053" ixy="0.00041083" ixz="-0.00005130" iyy="0.01126908" iyz="-0.00003461" izz="0.01371197"/>
    </inertial>
    <visual>
      <origin rpy="0 0 0" xyz="0 0 0"/>
      <geometry name="RShp_visual">
        <mesh filename="package://bigman_urdf/meshes/ShoulderPitch.STL" scale="0.001 0.001 0.001"/>
      </geometry>
      <material name="dark_grey"/>
    </visual>
    <collision>
      <origin rpy="0 0 0" xyz="0 0 0"/>
      <geometry name="RShp_collision">
        <mesh filename="package://bigman_urdf/meshes/simple/ShoulderPitch.STL" scale="0.001 0.001 0.001"/>
      </geometry>
    </collision>
  </link>
  <link name="RShr">
    <inertial>
      <origin rpy="0 0 0" xyz="0.00729315 0.00002698 -0.07529696"/>
      <mass value="5.00486460"/>
      <inertia ixx="0.01644345" ixy="-0.00001187" ixz="-0.00010546" iyy="0.01804804" iyz="-0.00000565" izz="0.00802420"/>
    </inertial>
    <visual>
      <origin rpy="0 0 0" xyz="0 0 0"/>
      <geometry name="RShr_visual">
        <mesh filename="package://bigman_urdf/meshes/TopUpperArm.STL" scale="0.001 0.001 0.001"/>
      </geometry>
      <material name="dark_grey"/>
    </visual>
    <collision>
      <origin rpy="0 0 0" xyz="0 0 0"/>
      <geometry name="RShr_collision">
        <mesh filename="package://bigman_urdf/meshes/simple/TopUpperArm.STL" scale="0.001 0.001 0.001"/>
      </geometry>
    </collision>
  </link>
  <link name="RShy">
    <inertial>
      <origin rpy="0 0 0" xyz="0.02765373 -0.03258647 -0.12698781"/>
      <mass value="3.20289133"/>
      <inertia ixx="0.01129046" ixy="0.00013518" ixz="-0.00134760" iyy="0.00984951" iyz="-0.00026836" izz="0.00728549"/>
    </inertial>
    <visual>
      <origin rpy="0 0 0" xyz="0 0 0"/>
      <geometry name="RShy_visual">
        <mesh filename="package://bigman_urdf/meshes/BottomUpperArm.STL" scale="0.001 0.001 0.001"/>
      </geometry>
      <material name="dark_grey"/>
    </visual>
    <collision>
      <origin rpy="0 0 0" xyz="0 0 0"/>
      <geometry name="RShy_collision">
        <mesh filename="package://bigman_urdf/meshes/simple/BottomUpperArm.STL" scale="0.001 0.001 0.001"/>
      </geometry>
    </collision>
  </link>
  <link name="RElb">
    <inertial>
      <origin rpy="0 0 0" xyz="-0.055754915 -0.007582604 -0.043820396"/>
      <mass value="8.6765385e-01"/>
      <inertia ixx="0.0040395238" ixy="0.00034973136" ixz="-0.00068400465" iyy="0.0022460561" iyz="0.00028844444" izz="0.0044895027"/>
    </inertial>
    <visual>
      <origin rpy="0 0 0" xyz="0 0 0"/>
      <geometry name="RElb_visual">
        <mesh filename="package://bigman_urdf/meshes/Elbow.STL" scale="0.001 0.001 0.001"/>
      </geometry>
      <material name="dark_grey"/>
    </visual>
    <collision>
      <origin rpy="0 0 0" xyz="0 0 0"/>
      <geometry name="RElb_collision">
        <mesh filename="package://bigman_urdf/meshes/simple/Elbow.STL" scale="0.001 0.001 0.001"/>
      </geometry>
    </collision>
  </link>
  <!-- LEFT ARM -->
  <link name="LShp">
    <inertial>
      <origin rpy="0 0 0" xyz="-0.00543349 0.04480023 0.01581062"/>
      <mass value="1.81745527"/>
      <inertia ixx="0.00571053" ixy="-0.00041083" ixz="-0.00005130" iyy="0.01126908" iyz="0.00003461" izz="0.01371197"/>
    </inertial>
    <visual>
      <origin rpy="0 0 0" xyz="0 0 0"/>
      <geometry name="LShp_visual">
        <mesh filename="package://bigman_urdf/meshes/ShoulderPitch.STL" scale="0.001 -0.001 0.001"/>
      </geometry>
      <material name="dark_grey"/>
    </visual>
    <collision>
      <origin rpy="0 0 0" xyz="0 0 0"/>
      <geometry name="LShp_collision">
        <mesh filename="package://bigman_urdf/meshes/simple/ShoulderPitch.STL" scale="0.001 -0.001 0.001"/>
      </geometry>
    </collision>
  </link>
  <link name="LShr">
    <inertial>
      <origin rpy="0 0 0" xyz="0.00729315 -0.00002698 -0.07529696"/>
      <mass value="5.00486460"/>
      <inertia ixx="0.01644345" ixy="0.00001187" ixz="-0.00010546" iyy="0.01804804" iyz="0.00000565" izz="0.00802420"/>
    </inertial>
    <visual>
      <origin rpy="0 0 0" xyz="0 0 0"/>
      <geometry name="LShr_visual">
        <mesh filename="package://bigman_urdf/meshes/TopUpperArm.STL" scale="0.001 -0.001 0.001"/>
      </geometry>
      <material name="dark_grey"/>
    </visual>
    <collision>
      <origin rpy="0 0 0" xyz="0 0 0"/>
      <geometry name="LShr_collision">
        <mesh filename="package://bigman_urdf/meshes/simple/TopUpperArm.STL" scale="0.001 -0.001 0.001"/>
      </geometry>
    </collision>
  </link>
  <link name="LShy">
    <inertial>
      <origin rpy="0 0 0" xyz="0.02765373 0.03258647 -0.12698781"/>
      <mass value="3.20289133"/>
      <inertia ixx="0.01129046" ixy="-0.00013518" ixz="-0.00134760" iyy="0.00984951" iyz="0.00026836" izz="0.00728549"/>
    </inertial>
    <visual>
      <origin rpy="0 0 0" xyz="0 0 0"/>
      <geometry name="LShy_visual">
        <mesh filename="package://bigman_urdf/meshes/BottomUpperArm.STL" scale="0.001 -0.001 0.001"/>
      </geometry>
      <material name="dark_grey"/>
    </visual>
    <collision>
      <origin rpy="0 0 0" xyz="0 0 0"/>
      <geometry name="LShy_collision">
        <mesh filename="package://bigman_urdf/meshes/simple/BottomUpperArm.STL" scale="0.001 -0.001 0.001"/>
      </geometry>
    </collision>
  </link>
  <link name="LElb">
    <inertial>
      <origin rpy="0 0 0" xyz="-0.055754915 0.007582604 -0.043820396"/>
      <mass value="8.6765385e-01"/>
      <inertia ixx="0.0040395238" ixy="-0.00034973136" ixz="-0.00068400465" iyy="0.0022460561" iyz="-0.00028844444" izz="0.0044895027"/>
    </inertial>
    <visual>
      <origin rpy="0 0 0" xyz="0 0 0"/>
      <geometry name="LElb_visual">
        <mesh filename="package://bigman_urdf/meshes/Elbow.STL" scale="0.001 -0.001 0.001"/>
      </geometry>
      <material name="dark_grey"/>
    </visual>
    <collision>
      <origin rpy="0 0 0" xyz="0 0 0"/>
      <geometry name="LElb_collision">
        <mesh filename="package://bigman_urdf/meshes/simple/Elbow.STL" scale="0.001 -0.001 0.001"/>
      </geometry>
    </collision>
  </link>
  <!-- JOINTS -->
  <!-- RIGHT ARM -->
  <joint name="RShSag" type="revolute">
    <parent link="DWYTorso"/>
    <child link="RShp"/>
    <origin rpy="0 0 0.3491" xyz="0.045646 -0.219164 0.001531"/>
    <axis xyz="0 0.743144825 -0.669130606"/>
    <limit effort="120" lower="-2.84488668075" upper="2.80998009571" velocity="6.283"/>
    <dynamics damping="3.0" friction="0"/>
  </joint>
  <joint name="RShLat" type="revolute">
    <parent link="RShp"/>
    <child link="RShr"/>
    <origin rpy="0 0 0" xyz="0.0 -0.116568264 0.03364"/>
    <axis xyz="1 0 0"/>
    <limit effort="120" lower="-3.85717764691" upper="-0.12217304764" velocity="6.283"/>
    <dynamics damping="3.0" friction="0"/>
  </joint>
  <joint name="RShYaw" type="revolute">
    <parent link="RShr"/>
    <child link="RShy"/>
    <origin rpy="0 0 0" xyz="0.0 0.0 -0.222"/>
    <axis xyz="0 0 1"/>
    <limit effort="120" lower="-2.86233997327" upper="2.82743338823" velocity="6.283"/>
    <dynamics damping="3.0" friction="0"/>
  </joint>
  <joint name="RElbj" type="revolute">
    <parent link="RShy"/>
    <child link="RElb"/>
    <origin rpy="0 0 0" xyz="0.036 0.0 -0.15"/>
    <axis xyz="0 1 0"/>
    <limit effort="120" lower="-2.96705972839" upper="0.593411945678" velocity="6.283"/>
    <dynamics damping="3.0" friction="0"/>
  </joint>
  <!-- LEFT ARM -->
  <joint name="LShSag" type="revolute">
    <parent link="DWYTorso"/>
    <child link="LShp"/>
    <origin rpy="0 0 -0.3491" xyz="0.045646 0.219164 0.001531"/>
    <axis xyz="0.0 0.743144825 0.669130606"/>
    <limit effort="120" lower="-2.87979326579" upper="2.79252680319" velocity="6.283"/>
    <dynamics damping="3.0" friction="0"/>
  </joint>
  <joint name="LShLat" type="revolute">
    <parent link="LShp"/>
    <child link="LShr"/>
    <origin rpy="0 0 0" xyz="0.0 0.116568264 0.03364"/>
    <axis xyz="1 0 0"/>
    <limit effort="120" lower="0.0872664625997" upper="3.85717764691" velocity="6.283"/>
    <dynamics damping="3.0" friction="0"/>
  </joint>
  <joint name="LShYaw" type="revolute">
    <parent link="LShr"/>
    <child link="LShy"/>
    <origin rpy="0 0 0" xyz="0.0 0.0 -0.222"/>
    <axis xyz="0 0 1"/>
    <limit effort="120" lower="-2.84488668075" upper="2.84488668075" velocity="6.283"/>
    <dynamics damping="3.0" friction="0"/>
  </joint>
  <joint name="LElbj" type="revolute">
    <parent link="LShy"/>
    <child link="LElb"/>
    <origin rpy="0 0 0" xyz="0.036 0.0 -0.15"/>
    <axis xyz="0 1 0"/>
    <limit effort="120" lower="-2.96705972839" upper="0.593411945678" velocity="6.283"/>
    <dynamics damping="3.0" friction="0"/>
  </joint>
  <!-- ***** LEGS F/T SENSOR REF FRAMES *******-->
  <link name="l_leg_ft"/>
  <link name="r_leg_ft"/>
  <joint name="l_leg_ft_joint" type="fixed">
    <parent link="LFoot"/>
    <child link="l_leg_ft"/>
    <origin rpy="0 0 0" xyz="0.005 0 -0.107"/>
  </joint>
  <joint name="r_leg_ft_joint" type="fixed">
    <parent link="RFoot"/>
    <child link="r_leg_ft"/>
    <origin rpy="0 0 0" xyz="0.005 0 -0.107"/>
  </joint>
  <link name="l_arm_ft"/>
  <link name="r_arm_ft"/>
  <joint name="l_arm_ft_joint" type="fixed">
    <parent link="LWrMot3"/>
    <child link="l_arm_ft"/>
    <origin rpy="0 0 0" xyz="0 0 -0.0565"/>
  </joint>
  <joint name="r_arm_ft_joint" type="fixed">
    <parent link="RWrMot3"/>
    <child link="r_arm_ft"/>
    <origin rpy="0 0 0" xyz="0 0 -0.0565"/>
  </joint>
  <!-- ************ FOREARMS ************ -->
  <!-- This links are defined in order to be compliant with http://www.ros.org/reps/rep-0120.html#coordinate-frames
	and to define the end effectors of the robot -->
  <!-- position and orientation of the arm regardless of the tool (grasping device for instance) attached to it -->
  <link name="l_wrist"/>
  <link name="r_wrist"/>
  <!-- ****************LINKS**************** -->
  <!-- ****************LEFT FOREARM**************** -->
  <link name="LForearm">
    <inertial>
      <origin rpy="0 0 0" xyz="1.2625599e-05 0.0042975381 0.044717986"/>
      <mass value="2.2127686"/>
      <inertia ixx="0.0065428368" ixy="-4.1196967e-05" ixz="3.272727e-06" iyy="0.005587829" iyz="0.00042088668" izz="0.0024783023"/>
    </inertial>
    <visual>
      <origin rpy="0 0 0" xyz="0 0 0"/>
      <geometry name="LForearm_visual">
        <mesh filename="package://bigman_urdf/meshes/Forearm.STL" scale="0.001 -0.001 0.001"/>
      </geometry>
      <material name="dark_grey"/>
    </visual>
    <collision>
      <origin rpy="0 0 0" xyz="0 0 0"/>
      <geometry name="LForearm_collision">
        <mesh filename="package://bigman_urdf/meshes/simple/Forearm.STL" scale="0.001 -0.001 0.001"/>
      </geometry>
    </collision>
  </link>
  <link name="LWrMot2">
    <inertial>
      <origin rpy="0 0 0" xyz="0.009819377 0.0013797184 -0.080380065"/>
      <mass value="1.2838072"/>
      <inertia ixx="0.001994124" ixy="2.569706e-05" ixz="0.00017443538" iyy="0.0021755329" iyz="-0.00012100987" izz="0.001830376"/>
    </inertial>
    <visual>
      <origin rpy="0 0 0" xyz="0 0 0"/>
      <geometry name="LWrMot2_visual">
        <mesh filename="package://bigman_urdf/meshes/ForearmPitch.STL" scale="0.001 -0.001 0.001"/>
      </geometry>
      <material name="dark_grey"/>
    </visual>
    <collision>
      <origin rpy="0 0 0" xyz="0 0 0"/>
      <geometry name="LWrMot2_collision">
        <mesh filename="package://bigman_urdf/meshes/simple/ForearmPitch.STL" scale="0.001 -0.001 0.001"/>
      </geometry>
    </collision>
  </link>
  <link name="LWrMot3">
    <inertial>
      <origin rpy="0 0 0" xyz="0.0070380706 -1.0811188e-05 -0.039669274"/>
      <mass value="4.2801447e-01"/>
      <inertia ixx="0.00028620156" ixy="5.2570457e-08" ixz="-3.9174213e-05" iyy="0.00071261855" iyz="-9.5020266e-08" izz="0.00061444258"/>
    </inertial>
    <visual>
      <origin rpy="0 0 0" xyz="0 0 0"/>
      <geometry name="LWrMot3_visual">
        <mesh filename="package://bigman_urdf/meshes/ForearmRoll.STL" scale="0.001 -0.001 0.001"/>
      </geometry>
      <material name="blue"/>
    </visual>
    <collision>
      <origin rpy="0 0 0" xyz="0 0 0"/>
      <geometry name="LWrMot3_collision">
        <mesh filename="package://bigman_urdf/meshes/simple/ForearmRoll.STL" scale="0.001 -0.001 0.001"/>
      </geometry>
    </collision>
  </link>
  <!-- ****************RIGHT FOREARM**************** -->
  <link name="RForearm">
    <inertial>
      <origin rpy="0 0 0" xyz="1.2625599e-05 -0.0042975381 0.044717986"/>
      <mass value="2.2127686"/>
      <inertia ixx="0.0065428368" ixy="4.1196967e-05" ixz="3.272727e-06" iyy="0.005587829" iyz="-0.00042088668" izz="0.0024783023"/>
    </inertial>
    <visual>
      <origin rpy="0 0 0" xyz="0 0 0"/>
      <geometry name="RForearm_visual">
        <mesh filename="package://bigman_urdf/meshes/Forearm.STL" scale="0.001 0.001 0.001"/>
      </geometry>
      <material name="dark_grey"/>
    </visual>
    <collision>
      <origin rpy="0 0 0" xyz="0 0 0"/>
      <geometry name="RForearm_collision">
        <mesh filename="package://bigman_urdf/meshes/simple/Forearm.STL" scale="0.001 0.001 0.001"/>
      </geometry>
    </collision>
  </link>
  <link name="RWrMot2">
    <inertial>
      <origin rpy="0 0 0" xyz="0.009819377 -0.0013797184 -0.080380065"/>
      <mass value="1.2838072"/>
      <inertia ixx="0.001994124" ixy="-2.569706e-05" ixz="0.00017443538" iyy="0.0021755329" iyz="0.00012100987" izz="0.001830376"/>
    </inertial>
    <visual>
      <origin rpy="0 0 0" xyz="0 0 0"/>
      <geometry name="RWrMot2_visual">
        <mesh filename="package://bigman_urdf/meshes/ForearmPitch.STL" scale="0.001 0.001 0.001"/>
      </geometry>
      <material name="dark_grey"/>
    </visual>
    <collision>
      <origin rpy="0 0 0" xyz="0 0 0"/>
      <geometry name="RWrMot2_collision">
        <mesh filename="package://bigman_urdf/meshes/simple/ForearmPitch.STL" scale="0.001 0.001 0.001"/>
      </geometry>
    </collision>
  </link>
  <link name="RWrMot3">
    <inertial>
      <origin rpy="0 0 0" xyz="0.0070380706 1.0811188e-05 -0.039669274"/>
      <mass value="4.2801447e-01"/>
      <inertia ixx="0.00028620156" ixy="-5.2570457e-08" ixz="-3.9174213e-05" iyy="0.00071261855" iyz="9.5020266e-08" izz="0.00061444258"/>
    </inertial>
    <visual>
      <origin rpy="0 0 0" xyz="0 0 0"/>
      <geometry name="RWrMot3_visual">
        <mesh filename="package://bigman_urdf/meshes/ForearmRoll.STL" scale="0.001 0.001 0.001"/>
      </geometry>
      <material name="blue"/>
    </visual>
    <collision>
      <origin rpy="0 0 0" xyz="0 0 0"/>
      <geometry name="RWrMot3_collision">
        <mesh filename="package://bigman_urdf/meshes/simple/ForearmRoll.STL" scale="0.001 0.001 0.001"/>
      </geometry>
    </collision>
  </link>
  <!-- ****************JOINTS**************** -->
  <!-- ****************LEFT FOREARM**************** -->
  <joint name="LForearmPlate" type="revolute">
    <parent link="LElb"/>
    <child link="LForearm"/>
    <origin rpy="0 0 0" xyz="-0.075 0.0 -0.1955"/>
    <axis xyz="0 0 1"/>
    <limit effort="60" lower="-2.529" upper="2.529" velocity="6.283"/>
    <dynamics damping="0.03" friction="0"/>
  </joint>
  <joint name="LWrj1" type="revolute">
    <parent link="LForearm"/>
    <child link="LWrMot2"/>
    <origin rpy="0 0 0" xyz="0 0 0"/>
    <axis xyz="0 1 0"/>
    <limit effort="60" lower="-1.48" upper="1.48" velocity="6.283"/>
    <dynamics damping="0.03" friction="0"/>
  </joint>
  <joint name="LWrj2" type="revolute">
    <parent link="LWrMot2"/>
    <child link="LWrMot3"/>
    <origin rpy="0 0 0" xyz="0 0 -0.092"/>
    <axis xyz="1 0 0"/>
    <limit effort="60" lower="-1.48" upper="1.48" velocity="6.283"/>
    <dynamics damping="0.03" friction="0"/>
  </joint>
  <joint name="l_wrist_joint" type="fixed">
    <parent link="LWrMot3"/>
    <child link="l_wrist"/>
    <origin rpy="0 0 0" xyz="0 0 0"/>
  </joint>
  <!-- ****************RIGHT FOREARM**************** -->
  <joint name="RForearmPlate" type="revolute">
    <parent link="RElb"/>
    <child link="RForearm"/>
    <origin rpy="0 0 0" xyz="-0.075 0.0 -0.1955"/>
    <axis xyz="0 0 1"/>
    <limit effort="60" lower="-2.529" upper="2.529" velocity="6.283"/>
    <dynamics damping="0.03" friction="0"/>
  </joint>
  <joint name="RWrj1" type="revolute">
    <parent link="RForearm"/>
    <child link="RWrMot2"/>
    <origin rpy="0 0 0" xyz="0 0 0"/>
    <axis xyz="0 1 0"/>
    <limit effort="60" lower="-1.48" upper="1.48" velocity="6.283"/>
    <dynamics damping="0.03" friction="0"/>
  </joint>
  <joint name="RWrj2" type="revolute">
    <parent link="RWrMot2"/>
    <child link="RWrMot3"/>
    <origin rpy="0 0 0" xyz="0 0 -0.092"/>
    <axis xyz="1 0 0"/>
    <limit effort="60" lower="-1.48" upper="1.48" velocity="6.283"/>
    <dynamics damping="0.03" friction="0"/>
  </joint>
  <joint name="r_wrist_joint" type="fixed">
    <parent link="RWrMot3"/>
    <child link="r_wrist"/>
    <origin rpy="0 0 0" xyz="0 0 0"/>
  </joint>
  <!-- For the hand we use the inertia of a parallelepiped -->
  <!-- LINKS -->
  <link name="RSoftHand"/>
  <link name="TCP_R"/>
  <link name="RSoftHandLink">
    <inertial>
      <origin rpy="0 0 0" xyz="0 0 -0.17"/>
      <mass value="1.2"/>
      <inertia ixx="0.00232" ixy="0" ixz="0" iyy="0.00296" iyz="0" izz="0.00136"/>
    </inertial>
    <visual>
      <origin rpy="0.0 0.0 0.0" xyz="0.0 0.0 0.0"/>
      <geometry name="RSoftHandLink_visual">
        <mesh filename="package://bigman_urdf/meshes/SoftHandOpen.STL" scale="0.001 0.001 0.001"/>
      </geometry>
      <material name="grey"/>
    </visual>
    <collision>
      <origin rpy="0.0 0.0 0.0" xyz="0.0 0.0 0.0"/>
      <geometry name="RSoftHandLink_collision">
        <mesh filename="package://bigman_urdf/meshes/simple/SoftHandOpen.STL" scale="0.001 0.001 0.001"/>
      </geometry>
    </collision>
  </link>
  <link name="r_hand_upper_right_link"/>
  <link name="r_hand_lower_right_link"/>
  <link name="r_hand_upper_left_link"/>
  <link name="r_hand_lower_left_link"/>
  <link name="LSoftHand"/>
  <link name="TCP_L"/>
  <link name="LSoftHandLink">
    <inertial>
      <origin rpy="0 0 0" xyz="0 0 -0.17"/>
      <mass value="1.2"/>
      <inertia ixx="0.00232" ixy="0" ixz="0" iyy="0.00296" iyz="0" izz="0.00136"/>
    </inertial>
    <visual>
      <origin rpy="0.0 0.0 0.0" xyz="0.0 0.0 0.0"/>
      <geometry name="LSoftHandLink_visual">
        <mesh filename="package://bigman_urdf/meshes/SoftHandOpen.STL" scale="0.001 -0.001 0.001"/>
      </geometry>
      <material name="grey"/>
    </visual>
    <collision>
      <origin rpy="0.0 0.0 0.0" xyz="0.0 0.0 0.0"/>
      <geometry name="LSoftHandLink_collision">
        <mesh filename="package://bigman_urdf/meshes/simple/SoftHandOpen.STL" scale="0.001 -0.001 0.001"/>
      </geometry>
    </collision>
  </link>
  <link name="l_hand_upper_right_link"/>
  <link name="l_hand_lower_right_link"/>
  <link name="l_hand_upper_left_link"/>
  <link name="l_hand_lower_left_link"/>
  <!-- JOINTS -->
  <joint name="r_handj" type="fixed">
    <parent link="RWrMot3"/>
    <child link="RSoftHandLink"/>
    <origin rpy="0 0 0" xyz="0 0 0"/>
  </joint>
  <joint name="r_handj2" type="fixed">
    <parent link="RSoftHandLink"/>
    <child link="RSoftHand"/>
    <origin rpy="0 0 0" xyz="0 0.0305 -0.21"/>
  </joint>
  <joint name="r_handj3" type="fixed">
    <parent link="RSoftHand"/>
    <child link="r_hand_upper_right_link"/>
    <origin rpy="0 0 0" xyz="0.05 0.0 0.0"/>
  </joint>
  <joint name="r_handj4" type="fixed">
    <parent link="RSoftHand"/>
    <child link="r_hand_lower_right_link"/>
    <origin rpy="0 0 0" xyz="-0.05 0.0 0.0"/>
  </joint>
  <joint name="r_handj5" type="fixed">
    <parent link="RSoftHand"/>
    <child link="r_hand_upper_left_link"/>
    <origin rpy="0 0 0" xyz="0.05 0.0 0.1"/>
  </joint>
  <joint name="r_handj6" type="fixed">
    <parent link="RSoftHand"/>
    <child link="r_hand_lower_left_link"/>
    <origin rpy="0 0 0" xyz="-0.05 0.0 0.1"/>
  </joint>
  <joint name="l_handj" type="fixed">
    <parent link="LWrMot3"/>
    <child link="LSoftHandLink"/>
    <origin rpy="0 0 0" xyz="0 0 0"/>
  </joint>
  <joint name="l_handj2" type="fixed">
    <parent link="LSoftHandLink"/>
    <child link="LSoftHand"/>
    <origin rpy="0 0 0" xyz="0 -0.0305 -0.21"/>
  </joint>
  <joint name="l_handj3" type="fixed">
    <parent link="LSoftHand"/>
    <child link="l_hand_upper_right_link"/>
    <origin rpy="0 0 0" xyz="0.05 0.0 0.0"/>
  </joint>
  <joint name="l_handj4" type="fixed">
    <parent link="LSoftHand"/>
    <child link="l_hand_lower_right_link"/>
    <origin rpy="0 0 0" xyz="-0.05 0.0 0.0"/>
  </joint>
  <joint name="l_handj5" type="fixed">
    <parent link="LSoftHand"/>
    <child link="l_hand_upper_left_link"/>
    <origin rpy="0 0 0" xyz="0.05 0.0 0.1"/>
  </joint>
  <joint name="l_handj6" type="fixed">
    <parent link="LSoftHand"/>
    <child link="l_hand_lower_left_link"/>
    <origin rpy="0 0 0" xyz="-0.05 0.0 0.1"/>
  </joint>
  <joint name="TCP_Ljoint" type="fixed">
    <parent link="LSoftHand"/>
    <child link="TCP_L"/>
    <origin rpy="1.57079632679 3.14159265359 0" xyz="0.0 0.0 0.0"/>
  </joint>
  <joint name="TCP_Rjoint" type="fixed">
    <parent link="RSoftHand"/>
    <child link="TCP_R"/>
    <origin rpy="-1.57079632679 0 0" xyz="0.0 0.0 0.0"/>
  </joint>
  <joint name="neck_joint" type="fixed">
    <parent link="NeckPitch"/>
    <child link="multisense/head"/>
    <origin rpy="0 0 0" xyz="0.08765 0 0.06475"/>
  </joint>
  <!-- 
       Based on multisense_sl_v4.urdf in multisense_sl_description (DRCSIM) 
-->
  <!-- Head Link Simple Collision Meshes -->
  <link name="multisense/head">
    <inertial>
      <origin rpy="0 0 0" xyz="-0.075493 3.3383E-05 0.02774"/>
      <mass value="1.41984"/>
      <inertia ixx="0.0039688" ixy="-1.5797E-06" ixz="-0.00089293" iyy="0.0041178" iyz="-6.8415E-07" izz="0.0035243"/>
    </inertial>
    <visual>
      <origin rpy="0 0 0" xyz="0 0 0"/>
      <geometry>
        <mesh filename="package://bigman_urdf/meshes/Head.STL" scale="0.001 0.001 0.001"/>
      </geometry>
      <material name="dark_grey"/>
    </visual>
    <collision>
      <origin rpy="0 0 0" xyz="0 0 0"/>
      <geometry>
        <mesh filename="package://bigman_urdf/meshes/simple/Head.STL" scale="0.001 0.001 0.001"/>
      </geometry>
    </collision>
  </link>
  <link name="multisense/hokuyo_link">
    <inertial>
      <origin rpy="0 0 0" xyz="0.032428 0.0004084 -0.0041835"/>
      <mass value="0.057654"/>
      <inertia ixx="3.7174E-05" ixy="4.9927E-08" ixz="1.1015E-05" iyy="4.2412E-05" iyz="-9.8165E-09" izz="4.167E-05"/>
    </inertial>
    <visual>
      <origin rpy="1.5707963267949 0 1.5707963267949" xyz="0 0 0"/>
      <geometry>
        <mesh filename="package://bigman_urdf/meshes/hokuyo_link.STL"/>
      </geometry>
      <material name="black"/>
    </visual>
    <collision>
      <origin rpy="0 0 0" xyz="0.01885 0 -0.02119"/>
      <geometry>
        <box size="0.08 0.06 0.04238"/>
      </geometry>
    </collision>
    <collision>
      <origin rpy="0 0 0" xyz="0.03 0 0.0235"/>
      <geometry>
        <cylinder length="0.047" radius="0.024425"/>
      </geometry>
    </collision>
  </link>
  <joint name="hokuyo_joint" type="fixed">
    <origin rpy="0 0 0" xyz="-0.0446 0 0.0880"/>
    <parent link="multisense/head"/>
    <child link="multisense/hokuyo_link"/>
  </joint>
  <!-- Hokuyo Laser -->
  <joint name="head_hokuyo_joint" type="fixed">
    <axis xyz="0 1 0"/>
    <origin rpy="0 0 0" xyz="0.03 0 0.015"/>
    <parent link="multisense/hokuyo_link"/>
    <child link="multisense/head_hokuyo_frame"/>
  </joint>
  <link name="multisense/head_hokuyo_frame"/>
  <!-- Stereo Camera -->
  <joint name="left_camera_frame_joint" type="fixed">
    <!-- optical frame collocated with tilting DOF -->
    <origin xyz="0.0 0.035 -0.002"/>
    <parent link="multisense/head"/>
    <child link="multisense/left_camera_frame"/>
  </joint>
  <link name="multisense/left_camera_frame"/>
  <joint name="left_camera_optical_frame_joint" type="fixed">
    <origin rpy="-1.5708 0.0 -1.5708" xyz="0 0 0"/>
    <parent link="multisense/left_camera_frame"/>
    <child link="multisense/left_camera_optical_frame"/>
  </joint>
  <link name="multisense/left_camera_optical_frame"/>
  <joint name="right_camera_frame_joint" type="fixed">
    <origin xyz="0.0 -0.035 -0.002"/>
    <parent link="multisense/head"/>
    <child link="multisense/right_camera_frame"/>
  </joint>
  <link name="multisense/right_camera_frame"/>
  <joint name="right_camera_optical_frame_joint" type="fixed">
    <origin rpy="-1.5708 0.0 -1.5708" xyz="0 0 0"/>
    <parent link="multisense/right_camera_frame"/>
    <child link="multisense/right_camera_optical_frame"/>
  </joint>
  <link name="multisense/right_camera_optical_frame"/>
  <joint name="center_top_led_frame_joint" type="fixed">
    <origin xyz="0.01125 0.0 0.0105"/>
    <parent link="multisense/head"/>
    <child link="multisense/center_top_led_frame"/>
  </joint>
  <link name="multisense/center_top_led_frame"/>
  <joint name="center_bottom_led_frame_joint" type="fixed">
    <origin xyz="0.01125 0.0 -0.0155"/>
    <parent link="multisense/head"/>
    <child link="multisense/center_bottom_led_frame"/>
  </joint>
  <link name="multisense/center_bottom_led_frame"/>
  <joint name="left_led_frame_joint" type="fixed">
    <origin rpy="0 0 0.6" xyz="-0.01443 0.07452 0.050346"/>
    <parent link="multisense/head"/>
    <child link="multisense/left_led_frame"/>
  </joint>
  <link name="multisense/left_led_frame"/>
  <joint name="right_led_frame_joint" type="fixed">
    <origin rpy="0 0 -0.6" xyz="-0.01443 -0.07452 0.050346"/>
    <parent link="multisense/head"/>
    <child link="multisense/right_led_frame"/>
  </joint>
  <link name="multisense/right_led_frame"/>
  <!-- imu link -->
  <link name="multisense/head_imu_link">
    <inertial>
      <mass value="1e-5"/>
      <!-- collocate with parent link and remove mass from it -->
      <origin rpy="0 0 0" xyz="-0.122993 0.035033383 0.02774"/>
      <inertia ixx="1e-6" ixy="0" ixz="0" iyy="1e-6" iyz="0" izz="1e-6"/>
    </inertial>
    <visual>
      <origin rpy="0 0 0" xyz="0 0 0"/>
      <geometry>
        <box size="0.01 0.01 0.01"/>
      </geometry>
    </visual>
    <collision>
      <origin rpy="0 0 0" xyz="0 0 0"/>
      <geometry>
        <box size="0.01 0.01 0.01"/>
      </geometry>
    </collision>
  </link>
  <joint name="head_imu_joint" type="fixed">
    <parent link="multisense/head"/>
    <child link="multisense/head_imu_link"/>
    <!-- putting it at the same z-level as the stereo -->
    <origin rpy="0 0 0" xyz="-0.0475 0.035 0.0"/>
  </joint>
  <link name="gaze"/>
  <joint name="gaze_joint" type="fixed">
    <parent link="multisense/head"/>
    <child link="gaze"/>
    <origin rpy="0 0 0" xyz="0 0 0"/>
  </joint>
  <link name="imu_link">
    <inertial>
      <mass value="0.01"/>
      <origin xyz="0 0 0"/>
      <inertia ixx="1.0E-6" ixy="0" ixz="0" iyy="1.0E-6" iyz="0" izz="1.0E-6"/>
    </inertial>
    <visual>
      <origin rpy="0 0 0" xyz="0 0 0"/>
      <geometry>
        <box size="0.01 0.01 0.01"/>
      </geometry>
    </visual>
  </link>
  <link name="imu_link2">
    <inertial>
      <mass value="0.01"/>
      <origin xyz="0 0 0"/>
      <inertia ixx="1.0E-6" ixy="0" ixz="0" iyy="1.0E-6" iyz="0" izz="1.0E-6"/>
    </inertial>
    <visual>
      <origin rpy="0 0 0" xyz="0 0 0"/>
      <geometry>
        <box size="0.01 0.01 0.01"/>
      </geometry>
    </visual>
  </link>
  <joint name="imu_joint" type="fixed">
    <parent link="Waist"/>
    <child link="imu_link"/>
    <origin rpy="0 0 0" xyz="0.0535 0.0 0.0601"/>
  </joint>
  <joint name="imu_joint2" type="fixed">
    <parent link="Waist"/>
    <child link="imu_link2"/>
    <origin rpy="0 0 0" xyz="0.0135 0.0 0.0601"/>
  </joint>
  <origin rpy="0 0 0" xyz="0.0 0.0 1.12"/>
  <!--
  ROS urdf definition of the BIGMAN humanoid robot by Istituto Italiano di Tecnologia
  
  Author: Alessio Rocchi
  
  This file groups files to use BIGMAN in GAZEBO
  
  -->
  <gazebo reference="imu_link">
    <sensor name="imu_link" type="imu">
      <always_on>1</always_on>
      <update_rate>1000</update_rate>
      <visualize>true</visualize>
      <topic>__default_topic__</topic>
      <imu>
        <!--
          <noise>
           <type>gaussian</type>
            <rate>
             <mean>0.0</mean>
             <stddev>2e-4</stddev>
             <bias_mean>0.0000075</bias_mean>
             <bias_stddev>0.0000008</bias_stddev>
            </rate>
            <accel>
             <mean>0.0</mean>
             <stddev>1.7e-2</stddev>
             <bias_mean>0.1</bias_mean>
             <bias_stddev>0.001</bias_stddev>
            </accel>
          </noise>
          -->
      </imu>
    </sensor>
  </gazebo>
  <gazebo reference="imu_link2">
    <sensor name="imu_link2" type="imu">
      <always_on>1</always_on>
      <update_rate>1000</update_rate>
      <visualize>true</visualize>
      <topic>__default_topic__</topic>
      <imu>
        <!--
          <noise>
           <type>gaussian</type>
            <rate>
             <mean>0.0</mean>
             <stddev>2e-4</stddev>
             <bias_mean>0.0000075</bias_mean>
             <bias_stddev>0.0000008</bias_stddev>
            </rate>
            <accel>
             <mean>0.0</mean>
             <stddev>1.7e-2</stddev>
             <bias_mean>0.1</bias_mean>
             <bias_stddev>0.001</bias_stddev>
            </accel>
          </noise>
          -->
      </imu>
    </sensor>
  </gazebo>
  <gazebo reference="RWrj2">
    <sensor name="r_arm_ft" type="force_torque">
      <force_torque>
        <frame>sensor</frame>
        <measure_direction>child_to_parent</measure_direction>
      </force_torque>
      <always_on>true</always_on>
      <visualize>true</visualize>
      <update_rate>1000</update_rate>
      <pose>0 0 -0.0565 0 0 0</pose>
    </sensor>
  </gazebo>
  <gazebo reference="LWrj2">
    <sensor name="l_arm_ft" type="force_torque">
      <force_torque>
        <frame>sensor</frame>
        <measure_direction>child_to_parent</measure_direction>
      </force_torque>
      <always_on>true</always_on>
      <visualize>true</visualize>
      <update_rate>1000</update_rate>
      <pose>0 0 -0.0565 0 0 0</pose>
    </sensor>
  </gazebo>
  <gazebo reference="LAnkLat">
    <sensor name="l_leg_ft" type="force_torque">
      <force_torque>
        <frame>sensor</frame>
        <measure_direction>child_to_parent</measure_direction>
      </force_torque>
      <always_on>true</always_on>
      <visualize>true</visualize>
      <update_rate>1000</update_rate>
      <pose>0.005 0 -0.107 0 0 0</pose>
    </sensor>
  </gazebo>
  <gazebo reference="RAnkLat">
    <sensor name="r_leg_ft" type="force_torque">
      <force_torque>
        <frame>sensor</frame>
        <measure_direction>child_to_parent</measure_direction>
      </force_torque>
      <always_on>true</always_on>
      <visualize>true</visualize>
      <update_rate>1000</update_rate>
      <pose>0.005 0 -0.107 0 0 0</pose>
    </sensor>
  </gazebo>
  <!-- contact model for foot surface -->
  <gazebo reference="LFoot">
    <kp>1000000.0</kp>
    <kd>100.0</kd>
    <mu1>1.0</mu1>
    <mu2>1.0</mu2>
    <fdir1>1 0 0</fdir1>
    <maxVel>1.0</maxVel>
    <minDepth>0.0</minDepth>
  </gazebo>
  <gazebo reference="RFoot">
    <kp>1000000.0</kp>
    <kd>100.0</kd>
    <mu1>1.0</mu1>
    <mu2>1.0</mu2>
    <fdir1>1 0 0</fdir1>
    <maxVel>1.0</maxVel>
    <minDepth>0.0</minDepth>
  </gazebo>
  <gazebo reference="LLowLeg">
    <kp>1000000.0</kp>
    <kd>100.0</kd>
    <mu1>0.3</mu1>
    <mu2>0.3</mu2>
    <fdir1>1 0 0</fdir1>
    <maxVel>1.0</maxVel>
    <minDepth>0.0</minDepth>
  </gazebo>
  <gazebo reference="RLowLeg">
    <kp>1000000.0</kp>
    <kd>100.0</kd>
    <mu1>0.3</mu1>
    <mu2>0.3</mu2>
    <fdir1>1 0 0</fdir1>
    <maxVel>1.0</maxVel>
    <minDepth>0.0</minDepth>
  </gazebo>
  <!-- contact model for hand surface -->
  <gazebo reference="LSoftHand">
    <kp>1000000.0</kp>
    <kd>100.0</kd>
    <mu1>1.0</mu1>
    <mu2>1.0</mu2>
    <fdir1>1 0 0</fdir1>
    <maxVel>1.0</maxVel>
    <minDepth>0.0</minDepth>
  </gazebo>
  <gazebo reference="RSoftHand">
    <kp>1000000.0</kp>
    <kd>100.0</kd>
    <mu1>1.0</mu1>
    <mu2>1.0</mu2>
    <fdir1>1 0 0</fdir1>
    <maxVel>1.0</maxVel>
    <minDepth>0.0</minDepth>
  </gazebo>
  <gazebo reference="LRaisingSupport">
    <kp>1000000.0</kp>
    <kd>100.0</kd>
    <mu1>0.5</mu1>
    <mu2>0.5</mu2>
    <fdir1>1 0 0</fdir1>
    <maxVel>1.0</maxVel>
    <minDepth>0.0</minDepth>
  </gazebo>
  <gazebo reference="RRaisingSupport">
    <kp>1000000.0</kp>
    <kd>100.0</kd>
    <mu1>0.5</mu1>
    <mu2>0.5</mu2>
    <fdir1>1 0 0</fdir1>
    <maxVel>1.0</maxVel>
    <minDepth>0.0</minDepth>
  </gazebo>
  <!-- Other parameters... -->
  <gazebo reference="RHipSag">
    <implicitSpringDamper>1</implicitSpringDamper>
    <provideFeedback>true</provideFeedback>
  </gazebo>
  <gazebo reference="RHipLat">
    <implicitSpringDamper>1</implicitSpringDamper>
    <provideFeedback>true</provideFeedback>
  </gazebo>
  <gazebo reference="RHipYaw">
    <implicitSpringDamper>1</implicitSpringDamper>
    <provideFeedback>true</provideFeedback>
  </gazebo>
  <gazebo reference="RKneeSag">
    <implicitSpringDamper>1</implicitSpringDamper>
    <provideFeedback>true</provideFeedback>
  </gazebo>
  <gazebo reference="RAnkLat">
    <implicitSpringDamper>1</implicitSpringDamper>
    <provideFeedback>true</provideFeedback>
  </gazebo>
  <gazebo reference="RAnkSag">
    <implicitSpringDamper>1</implicitSpringDamper>
    <provideFeedback>true</provideFeedback>
  </gazebo>
  <gazebo reference="LHipSag">
    <implicitSpringDamper>1</implicitSpringDamper>
    <provideFeedback>true</provideFeedback>
  </gazebo>
  <gazebo reference="LHipLat">
    <implicitSpringDamper>1</implicitSpringDamper>
    <provideFeedback>true</provideFeedback>
  </gazebo>
  <gazebo reference="LHipYaw">
    <implicitSpringDamper>1</implicitSpringDamper>
    <provideFeedback>true</provideFeedback>
  </gazebo>
  <gazebo reference="LKneeSag">
    <implicitSpringDamper>1</implicitSpringDamper>
    <provideFeedback>true</provideFeedback>
  </gazebo>
  <gazebo reference="LAnkLat">
    <implicitSpringDamper>1</implicitSpringDamper>
    <provideFeedback>true</provideFeedback>
  </gazebo>
  <gazebo reference="LAnkSag">
    <implicitSpringDamper>1</implicitSpringDamper>
    <provideFeedback>true</provideFeedback>
  </gazebo>
  <gazebo reference="WaistSag">
    <implicitSpringDamper>1</implicitSpringDamper>
    <provideFeedback>true</provideFeedback>
  </gazebo>
  <gazebo reference="WaistLat">
    <implicitSpringDamper>1</implicitSpringDamper>
    <provideFeedback>true</provideFeedback>
  </gazebo>
  <gazebo reference="WaistYaw">
    <implicitSpringDamper>1</implicitSpringDamper>
    <provideFeedback>true</provideFeedback>
  </gazebo>
  <gazebo reference="RShSag">
    <implicitSpringDamper>1</implicitSpringDamper>
    <provideFeedback>true</provideFeedback>
  </gazebo>
  <gazebo reference="RShLat">
    <implicitSpringDamper>1</implicitSpringDamper>
    <provideFeedback>true</provideFeedback>
  </gazebo>
  <gazebo reference="RShYaw">
    <implicitSpringDamper>1</implicitSpringDamper>
    <provideFeedback>true</provideFeedback>
  </gazebo>
  <gazebo reference="RElbj">
    <implicitSpringDamper>1</implicitSpringDamper>
    <provideFeedback>true</provideFeedback>
  </gazebo>
  <gazebo reference="RForearmPlate">
    <implicitSpringDamper>1</implicitSpringDamper>
    <provideFeedback>true</provideFeedback>
  </gazebo>
  <gazebo reference="RWrj1">
    <implicitSpringDamper>1</implicitSpringDamper>
    <provideFeedback>true</provideFeedback>
  </gazebo>
  <gazebo reference="RWrj2">
    <implicitSpringDamper>1</implicitSpringDamper>
    <provideFeedback>true</provideFeedback>
  </gazebo>
  <gazebo reference="RWrMot3">
    <sensor name="RWrMot3_contact_sensor" type="contact">
      <contact>
        <collision>RWrMot3_fixed_joint_lump__RSoftHandLink_collision_1</collision>
      </contact>
    </sensor>
  </gazebo>
  <gazebo reference="LShSag">
    <implicitSpringDamper>1</implicitSpringDamper>
    <provideFeedback>true</provideFeedback>
  </gazebo>
  <gazebo reference="LShLat">
    <implicitSpringDamper>1</implicitSpringDamper>
    <provideFeedback>true</provideFeedback>
  </gazebo>
  <gazebo reference="LShYaw">
    <implicitSpringDamper>1</implicitSpringDamper>
    <provideFeedback>true</provideFeedback>
  </gazebo>
  <gazebo reference="LElbj">
    <implicitSpringDamper>1</implicitSpringDamper>
    <provideFeedback>true</provideFeedback>
  </gazebo>
  <gazebo reference="LForearmPlate">
    <implicitSpringDamper>1</implicitSpringDamper>
    <provideFeedback>true</provideFeedback>
  </gazebo>
  <gazebo reference="LWrj1">
    <implicitSpringDamper>1</implicitSpringDamper>
    <provideFeedback>true</provideFeedback>
  </gazebo>
  <gazebo reference="LWrj2">
    <implicitSpringDamper>1</implicitSpringDamper>
    <provideFeedback>true</provideFeedback>
  </gazebo>
  <gazebo reference="LWrMot3">
    <sensor name="LWrMot3_contact_sensor" type="contact">
      <contact>
        <collision>LWrMot3_fixed_joint_lump__LSoftHandLink_collision_1</collision>
      </contact>
    </sensor>
  </gazebo>
  <gazebo>
    <plugin filename="libGazeboXBotPlugin.so" name="xbot_plugin_handler">
      <path_to_config_file>configs/ADVR_shared/bigman/configs/config_walkman.yaml</path_to_config_file>
    </plugin>
  </gazebo>
  <gazebo>
    <plugin filename="libmagnetic.so" name="magnetic_LSoftHand">
      <link_name>LWrMot3</link_name>
    </plugin>
    <plugin filename="libmagnetic.so" name="magnetic_RSoftHand">
      <link_name>RWrMot3</link_name>
    </plugin>
  </gazebo>
  <gazebo reference="base_link">
    <material>Gazebo/Grey</material>
  </gazebo>
  <gazebo reference="DWL">
    <material>Gazebo/DarkGrey</material>
  </gazebo>
  <gazebo reference="DWS">
    <material>Gazebo/DarkGrey</material>
  </gazebo>
  <gazebo reference="DWYTorso">
    <material>Gazebo/Blue</material>
  </gazebo>
  <gazebo reference="RShp">
    <material>Gazebo/DarkGrey</material>
  </gazebo>
  <gazebo reference="RShr">
    <material>Gazebo/DarkGrey</material>
  </gazebo>
  <gazebo reference="RShy">
    <material>Gazebo/DarkGrey</material>
  </gazebo>
  <gazebo reference="RElb">
    <material>Gazebo/DarkGrey</material>
  </gazebo>
  <gazebo reference="RForearm">
    <material>Gazebo/DarkGrey</material>
  </gazebo>
  <gazebo reference="RWrMot2">
    <material>Gazebo/DarkGrey</material>
  </gazebo>
  <gazebo reference="RWrMot3">
    <material>Gazebo/Blue</material>
  </gazebo>
  <gazebo reference="RRaisingSupport">
    <material>Gazebo/DarkGrey</material>
  </gazebo>
  <gazebo reference="RSoftHand">
    <material>Gazebo/Black</material>
  </gazebo>
  <gazebo reference="LShp">
    <material>Gazebo/DarkGrey</material>
  </gazebo>
  <gazebo reference="LShr">
    <material>Gazebo/DarkGrey</material>
  </gazebo>
  <gazebo reference="LShy">
    <material>Gazebo/DarkGrey</material>
  </gazebo>
  <gazebo reference="LElb">
    <material>Gazebo/DarkGrey</material>
  </gazebo>
  <gazebo reference="LForearm">
    <material>Gazebo/DarkGrey</material>
  </gazebo>
  <gazebo reference="LWrMot2">
    <material>Gazebo/DarkGrey</material>
  </gazebo>
  <gazebo reference="LWrMot3">
    <material>Gazebo/Blue</material>
  </gazebo>
  <gazebo reference="LRaisingSupport">
    <material>Gazebo/DarkGrey</material>
  </gazebo>
  <gazebo reference="LSoftHand">
    <material>Gazebo/Black</material>
  </gazebo>
  <gazebo reference="RHipMot">
    <material>Gazebo/DarkGrey</material>
  </gazebo>
  <gazebo reference="RThighUpLeg">
    <material>Gazebo/DarkGrey</material>
  </gazebo>
  <gazebo reference="RThighLowLeg">
    <material>Gazebo/Grey</material>
  </gazebo>
  <gazebo reference="RLowLeg">
    <material>Gazebo/DarkGrey</material>
  </gazebo>
  <gazebo reference="RFootmot">
    <material>Gazebo/DarkGrey</material>
  </gazebo>
  <gazebo reference="RFoot">
    <material>Gazebo/DarkGrey</material>
  </gazebo>
  <gazebo reference="LHipMot">
    <material>Gazebo/DarkGrey</material>
  </gazebo>
  <gazebo reference="LThighUpLeg">
    <material>Gazebo/DarkGrey</material>
  </gazebo>
  <gazebo reference="LThighLowLeg">
    <material>Gazebo/Grey</material>
  </gazebo>
  <gazebo reference="LLowLeg">
    <material>Gazebo/DarkGrey</material>
  </gazebo>
  <gazebo reference="LFootmot">
    <material>Gazebo/DarkGrey</material>
  </gazebo>
  <gazebo reference="LFoot">
    <material>Gazebo/DarkGrey</material>
  </gazebo>
  <gazebo reference="head">
    <material>Gazebo/DarkGrey</material>
  </gazebo>
  <gazebo reference="hokuyo_link">
    <material>Gazebo/Black</material>
  </gazebo>
  <gazebo reference="NeckYaw">
    <material>Gazebo/Grey</material>
  </gazebo>
  <gazebo reference="NeckPitch">
    <material>Gazebo/Grey</material>
  </gazebo>
</robot>
